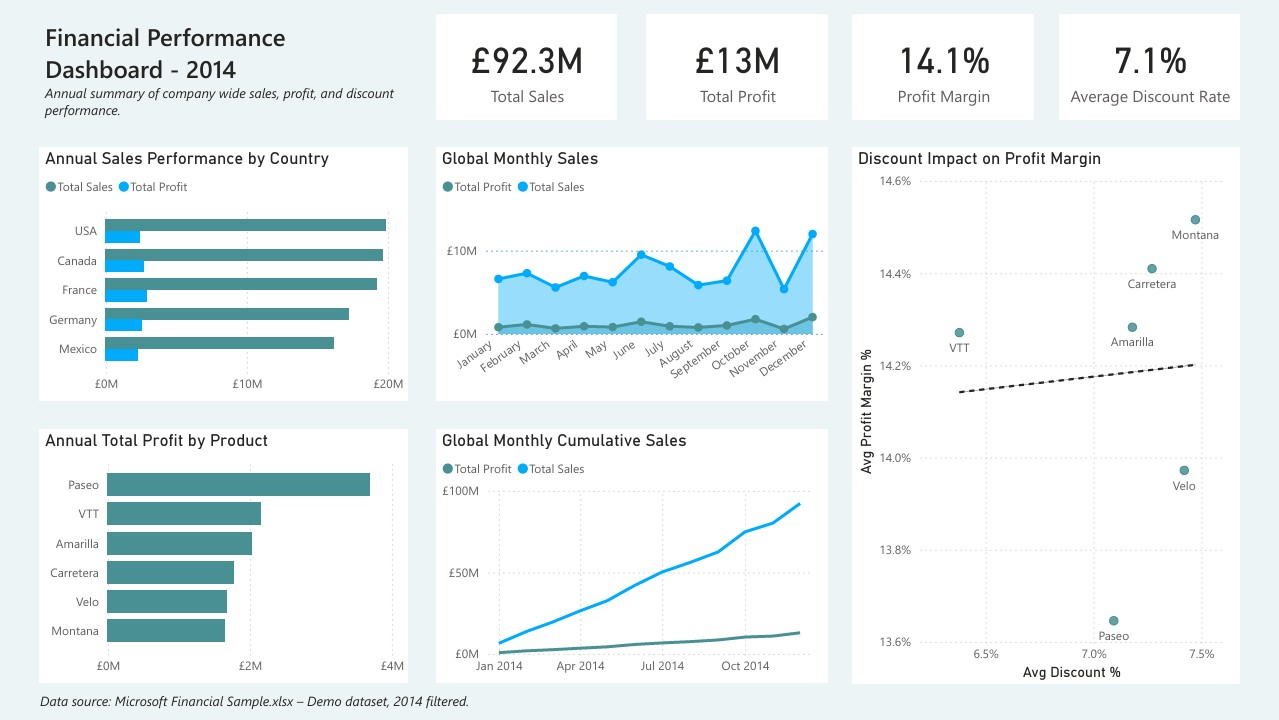

What the dashboard file says about the page in this screenshot:
{"tool":"powerbi","page":{"name":"Page 1","canvas":[1280,720],"ordinal":0},"visuals":[{"type":"card","fields":{"Values":["Financials.Total Profit"]},"box":[654,14,182,106],"z":0},{"type":"card","fields":{"Values":["Financials.Total Sales"]},"box":[445,14,181,106],"z":1000},{"type":"card","fields":{"Values":["Financials.Profit Margin %"]},"box":[861,14,182,106],"z":2000},{"type":"clusteredBarChart","title":"Country Sales","fields":{"Category":["Financials.Country"],"Y":["Financials.Total Sales","Financials.Total Profit"]},"box":[27,147,391,254],"z":3000},{"type":"clusteredBarChart","title":"Product Sales","fields":{"Category":["Financials.Product"],"Y":["Financials.Total Sales","Financials.Total Profit"]},"box":[27,429,391,254],"z":4000},{"type":"areaChart","title":"Monthly Sales","fields":{"Category":["Financials.Date.Variation.Date Hierarchy.Month"],"Y":["Financials.Total Sales","Financials.Total Profit"]},"box":[444,146,392,255],"z":5000},{"type":"scatterChart","title":"Discount Impact on Product Profit","fields":{"Y":["Financials.Profit Margin %"],"X":["Financials.Avg Discount %"],"Category":["Financials.Product"]},"box":[861,146,388,537],"z":6000},{"type":"lineChart","title":"Monthly Cumulative Sales","fields":{"Y":["Financials.Total Sales YTD","Financials.Total Profit YTD"],"Category":["Financials.Date"]},"box":[444,429,392,254],"z":7000},{"type":"textbox","box":[27,15,372,157],"z":8000},{"type":"card","fields":{"Values":["Financials.Avg Discount %"]},"box":[1068,14,181,106],"z":9000},{"type":"textbox","box":[24,684,467,29],"z":10000}]}

Visuals, with their boxes in screenshot pixels (x1, y1, x2, y2), scaled from the page's 1280x720 canvas onto the 1279x720 screenshot:
card - Financials.Total Profit: {"left": 653, "top": 14, "right": 835, "bottom": 120}
card - Financials.Total Sales: {"left": 445, "top": 14, "right": 626, "bottom": 120}
card - Financials.Profit Margin %: {"left": 860, "top": 14, "right": 1042, "bottom": 120}
"Country Sales" clusteredBarChart: {"left": 27, "top": 147, "right": 418, "bottom": 401}
"Product Sales" clusteredBarChart: {"left": 27, "top": 429, "right": 418, "bottom": 683}
"Monthly Sales" areaChart: {"left": 444, "top": 146, "right": 835, "bottom": 401}
"Discount Impact on Product Profit" scatterChart: {"left": 860, "top": 146, "right": 1248, "bottom": 683}
"Monthly Cumulative Sales" lineChart: {"left": 444, "top": 429, "right": 835, "bottom": 683}
textbox: {"left": 27, "top": 15, "right": 399, "bottom": 172}
card - Financials.Avg Discount %: {"left": 1067, "top": 14, "right": 1248, "bottom": 120}
textbox: {"left": 24, "top": 684, "right": 491, "bottom": 713}
